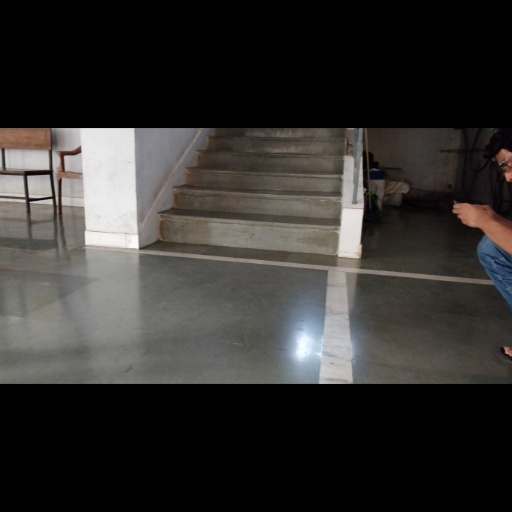Stairs: (159, 129, 344, 255)
